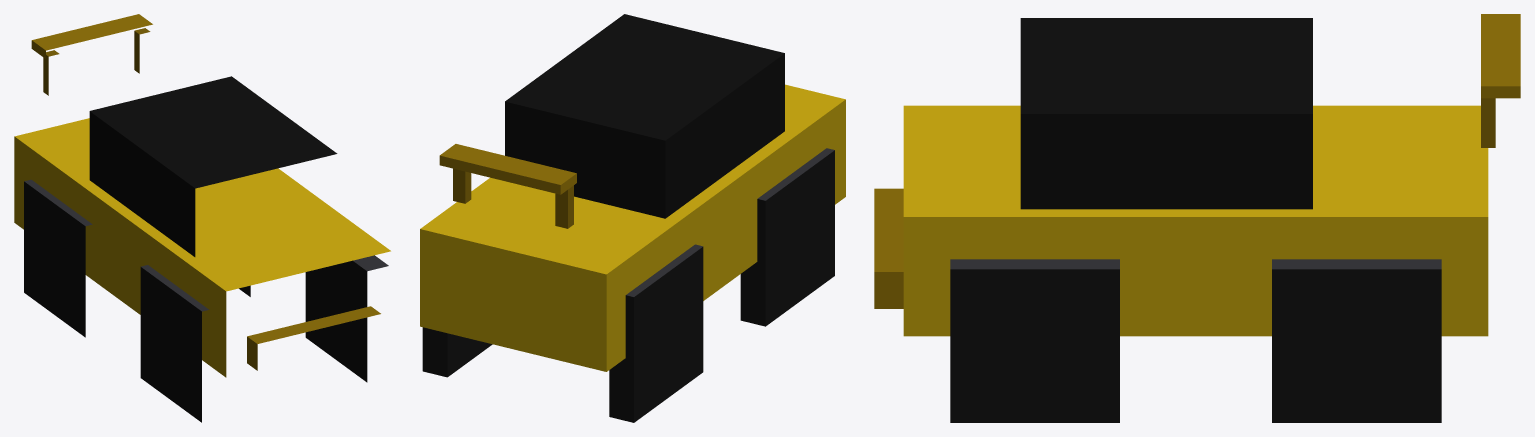
File: car_yellow.glb
3 views of the same model, side by side, from view 1: azimuth 30°, elevation 25°; view 2: azimuth 150°, elevation 25°; view 3: azimuth 270°, elevation 25° (orthographic). The views are drawn at different scales.
Parts seen in each view (by area): view 1: mesh0; view 2: mesh0; view 3: mesh0.
Part boxes in pixels (x1,y1,x2,y2): mesh0: (14,14,390,422); mesh0: (420,14,845,422); mesh0: (874,14,1520,422).
Size of the model in its own units: 2.04 by 2.32 by 4.42.
